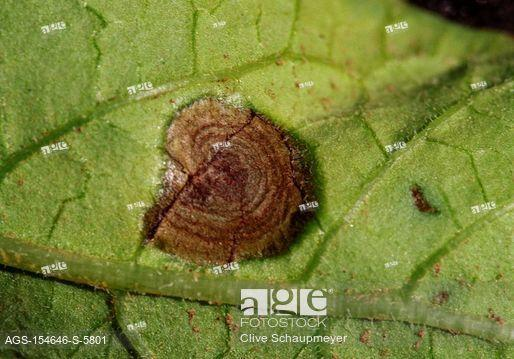Potato leaf late blight: (1, 1, 514, 344)
